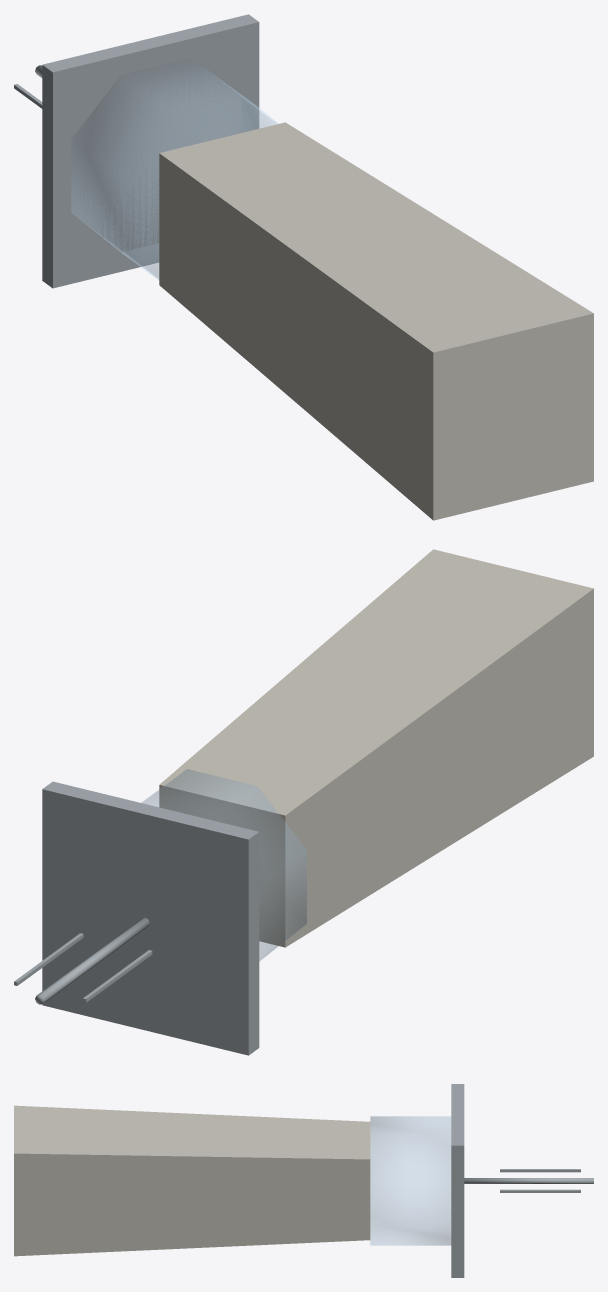
Rendered from control_tower.glb.
3 views of the same model, one above another, from view 1: azimuth 30°, elevation 25°; view 2: azimuth 150°, elevation 25°; view 3: azimuth 270°, elevation 25° (orthographic). The views are drawn at different scales.
Visible parts, largest first — view 1: TowerBase, TowerRoof, TowerCab; view 2: TowerBase, TowerRoof, TowerCab, Antenna, Struts; view 3: TowerBase, TowerCab, TowerRoof, Antenna, Struts.
Part boxes in pixels (x1,y1,x2,y2): TowerBase: [159, 122, 593, 520]; TowerRoof: [42, 14, 259, 288]; TowerCab: [71, 58, 278, 279]; TowerBase: [159, 549, 593, 947]; TowerRoof: [42, 781, 259, 1055]; TowerCab: [141, 769, 306, 961]; Antenna: [35, 917, 149, 1004]; Struts: [14, 933, 152, 1002]; TowerBase: [14, 1105, 370, 1256]; TowerCab: [370, 1116, 450, 1245]; TowerRoof: [451, 1084, 464, 1277]; Antenna: [464, 1178, 593, 1183]; Struts: [500, 1169, 580, 1192].
Size of the model in its own units: 9 by 9 by 35.8.
